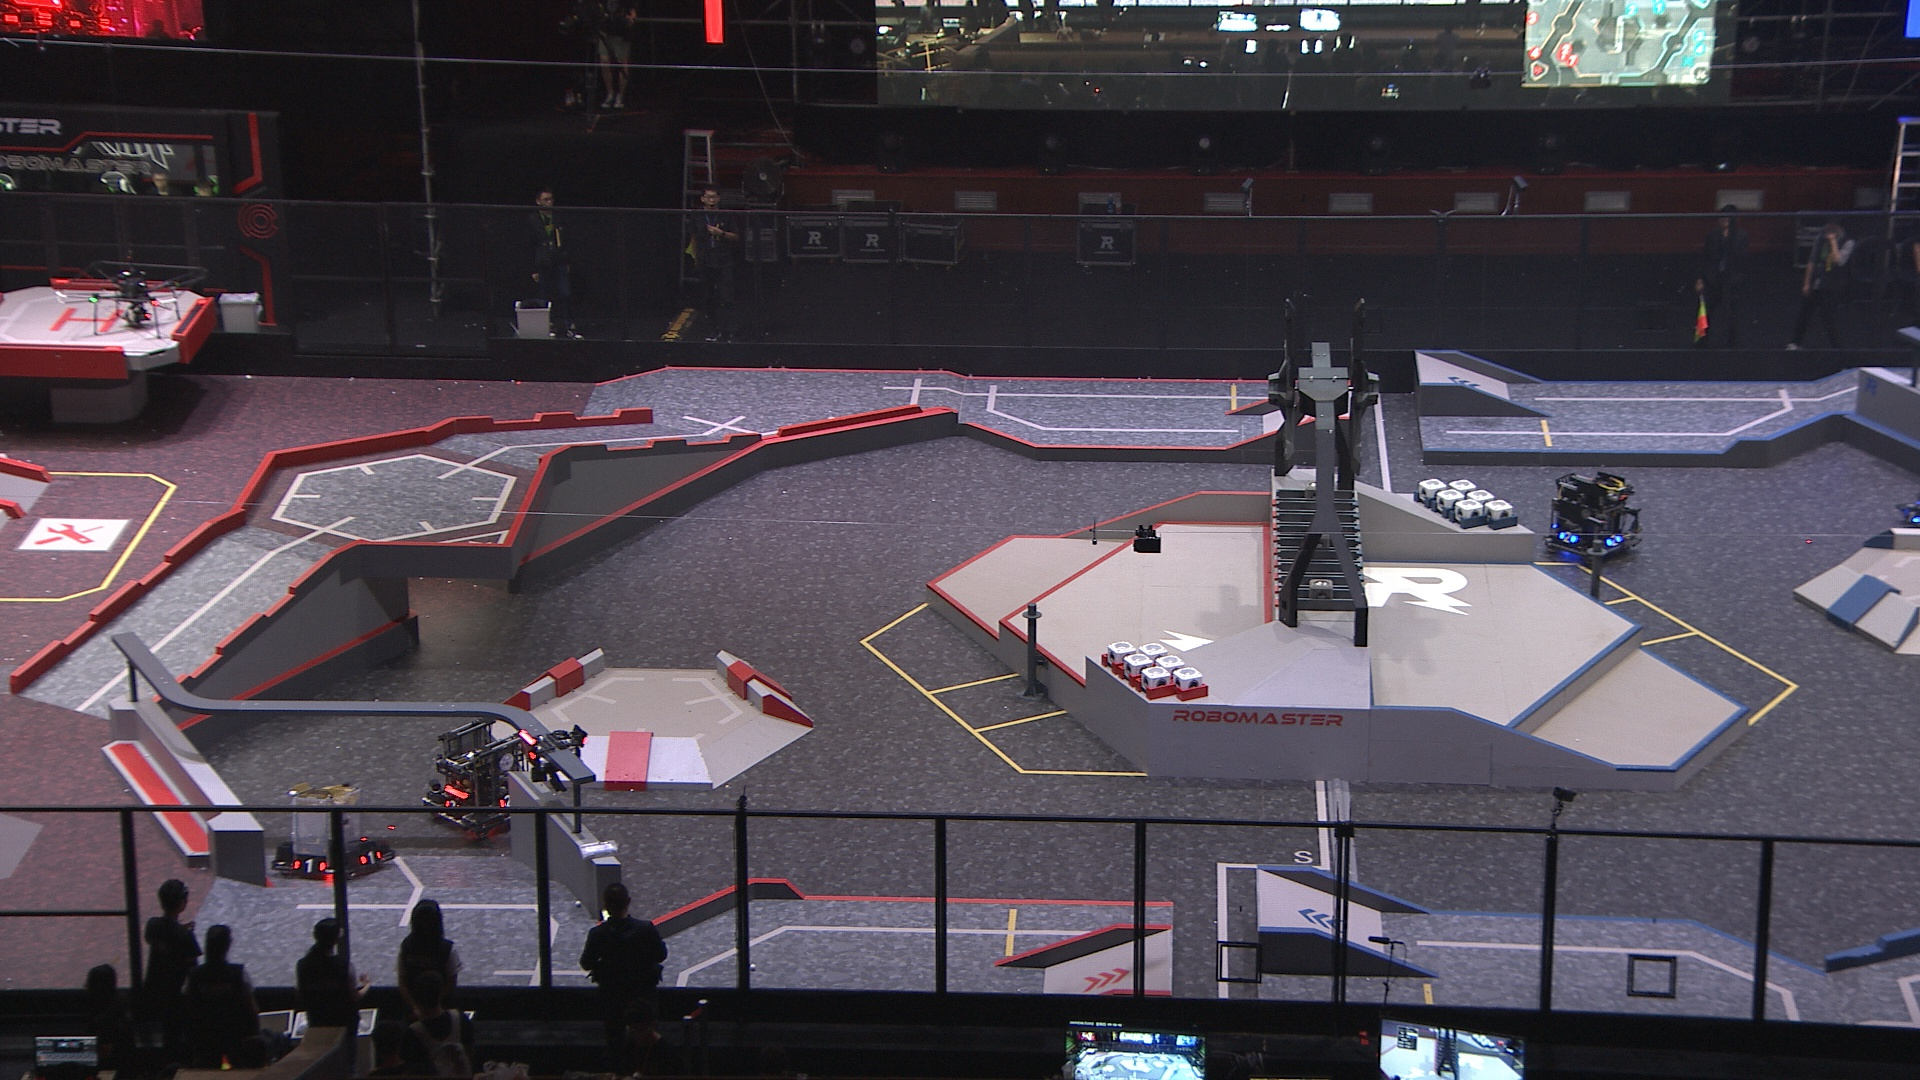armor: (356, 847, 384, 873), (291, 855, 323, 874), (1600, 531, 1626, 550), (443, 796, 463, 818), (1557, 529, 1580, 546), (498, 793, 517, 812)
car: (423, 708, 533, 832), (269, 783, 394, 880), (1542, 467, 1640, 560)
watcher: (513, 717, 588, 781)
